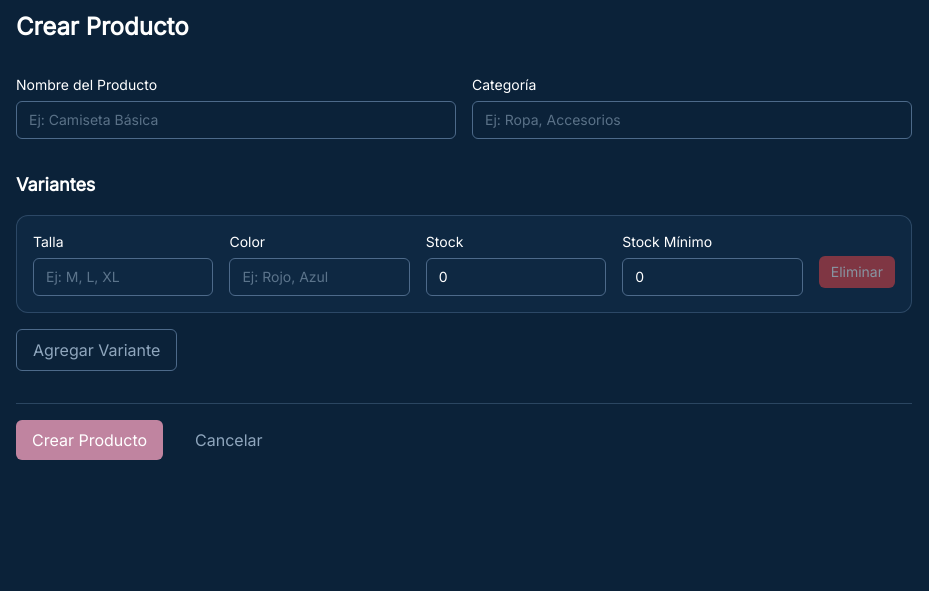
it: ProductFormPage › remove button removes a variant row (Req 2.5)
The width and height of the screenshot is (929, 591).
Add a second variant so we can remove one
Step 1. Click the button "Agregar Variante" → (97, 350), box x1=16 y1=329 x2=177 y2=371
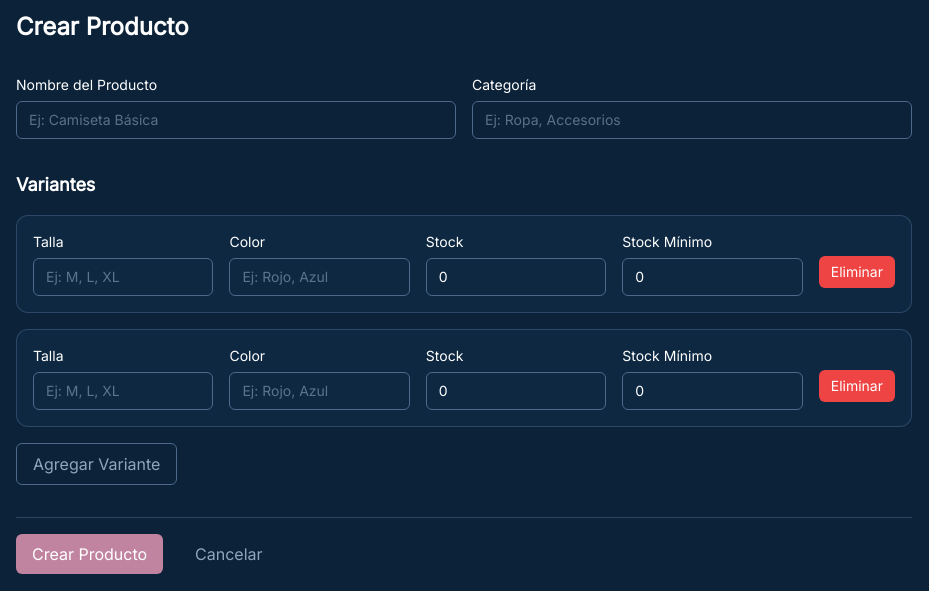
Result: the number of buttons named "eliminar variante" is 2
Step 2. Click the button with aria-label "eliminar variante" → (857, 272), box x1=819 y1=256 x2=895 y2=288
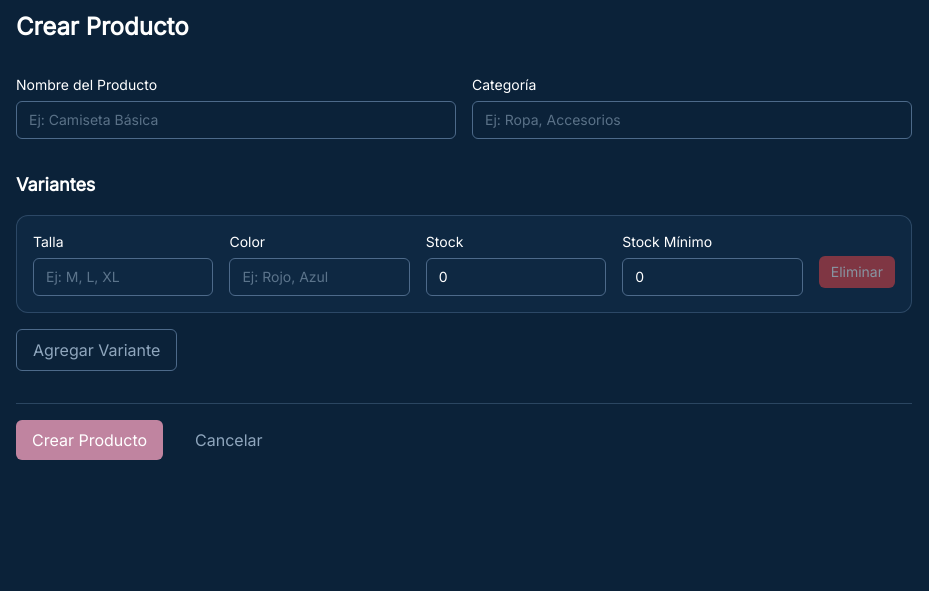
Result: the number of fields labelled "Talla" is 1 at x1=33 y1=258 x2=213 y2=296
